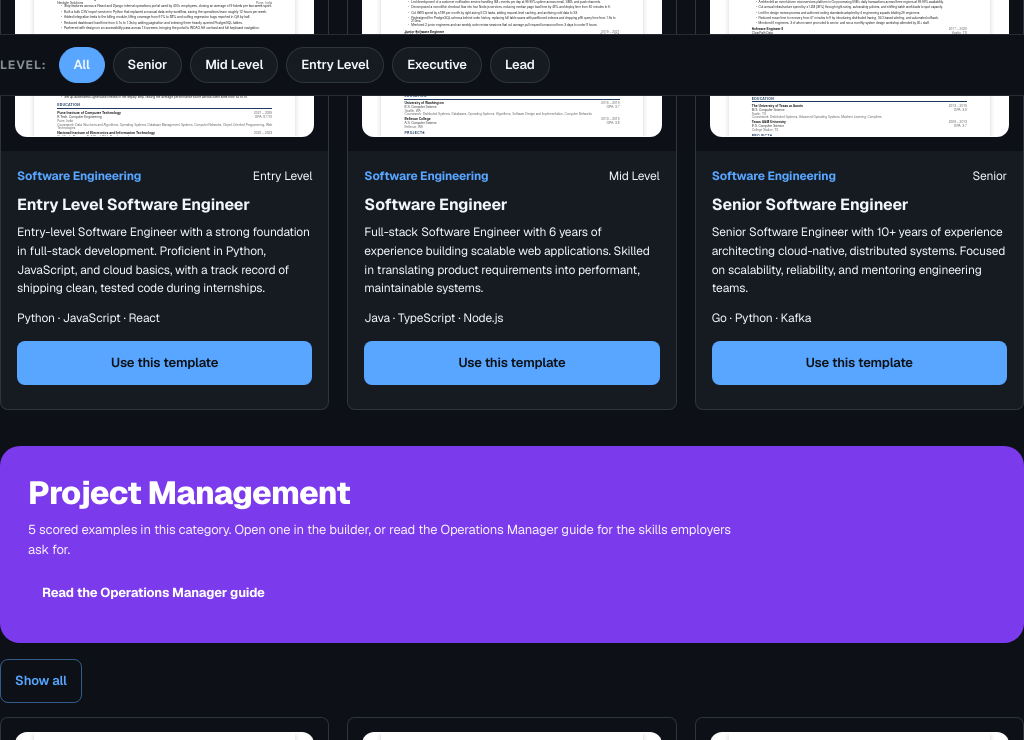
Scenario: ResumeExamplesMarketplace › keeps the user on the page when browser storage rejects the prefill
(page scrolled)
Step 1. Click the button "Use this template" below "Python · JavaScript · React" → {"x": 165, "y": 363}, box [17,341,312,385]
(page scrolled)
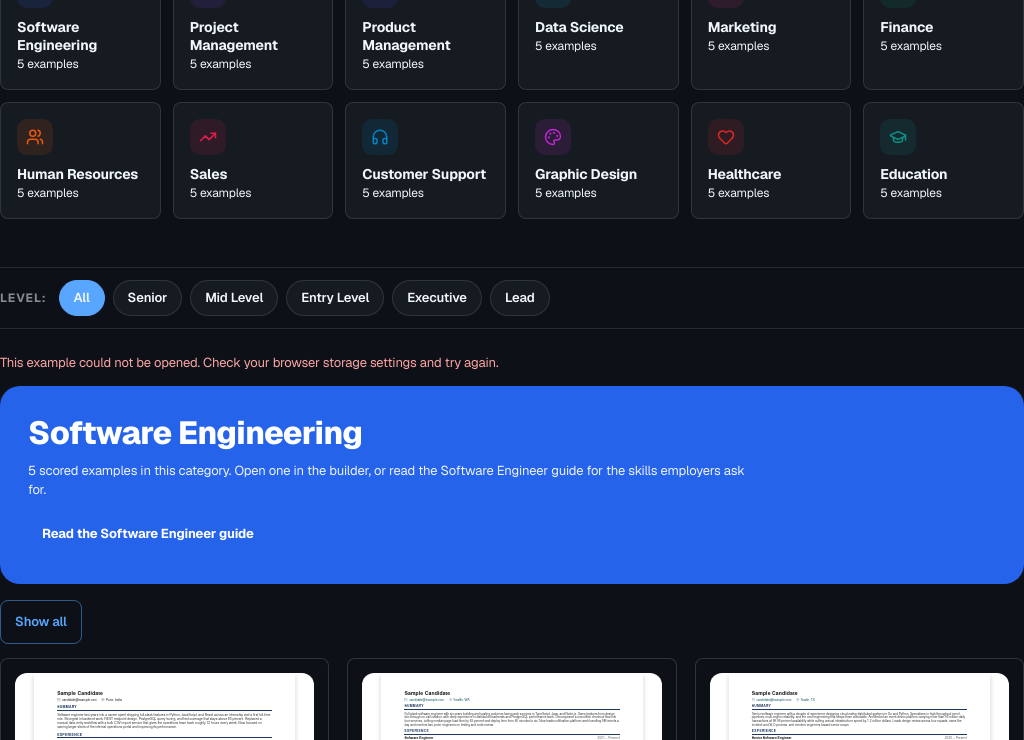
Expected: the message shows "could not be opened", [0,354,498,371]
